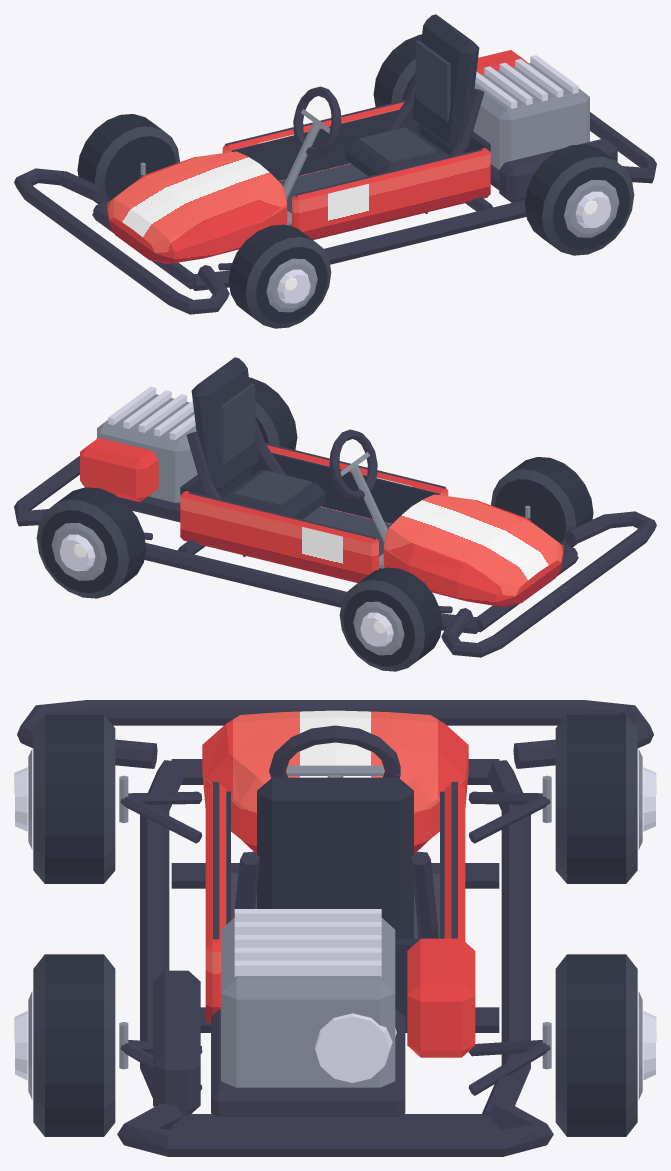
The picture shows the model from 3 angles, top to bottom: view 1: azimuth 30°, elevation 25°; view 2: azimuth 150°, elevation 25°; view 3: azimuth 270°, elevation 25°; orthographic projection. The views are drawn at different scales.
Visible parts, largest first — view 1: Body_static, Wheel_RL_tire_hub, Wheel_FL_tire_hub, Wheel_FR_tire_hub, Wheel_RR_tire_hub; view 2: Body_static, Wheel_RR_tire_hub, Wheel_FR_tire_hub, Wheel_FL_tire_hub, Wheel_RL_tire_hub; view 3: Body_static, Wheel_RL_tire_hub, Wheel_RR_tire_hub, Wheel_FL_tire_hub, Wheel_FR_tire_hub.
Boxes of the visible parts, x1,y1,x2,y2 form: Body_static: (14,14,656,314); Wheel_RL_tire_hub: (525,144,634,255); Wheel_FL_tire_hub: (228,224,331,328); Wheel_FR_tire_hub: (77,114,179,204); Wheel_RR_tire_hub: (373,34,421,106); Body_static: (14,357,656,657); Wheel_RR_tire_hub: (36,487,145,598); Wheel_FR_tire_hub: (339,567,442,671); Wheel_FL_tire_hub: (491,457,593,547); Wheel_RL_tire_hub: (249,377,297,449); Body_static: (17,700,653,1156); Wheel_RL_tire_hub: (14,954,115,1136); Wheel_RR_tire_hub: (555,954,656,1136); Wheel_FL_tire_hub: (14,714,115,883); Wheel_FR_tire_hub: (555,714,656,883).
Size of the model in its own units: 52.17 by 17.22 by 32.77.
1 material, 1 textured.
